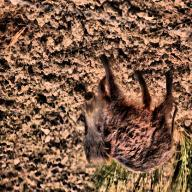boar: (80, 52, 178, 175)
